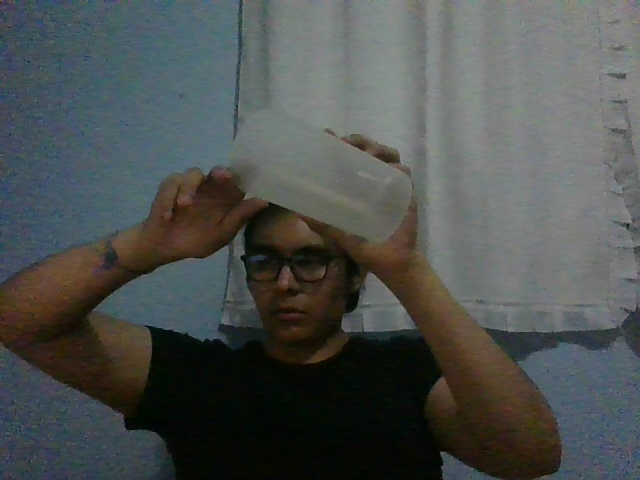vaso: (228, 108, 412, 244)
